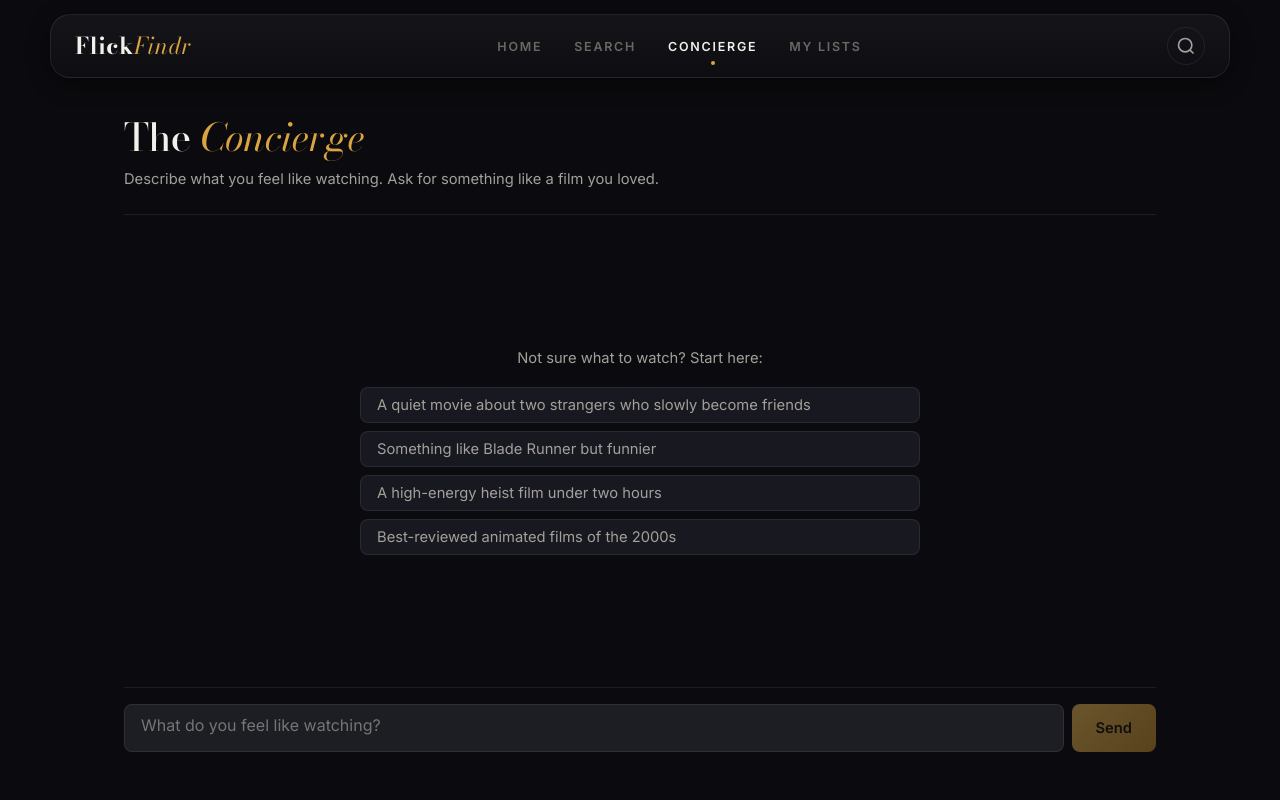
Test case: Concierge streaming › surfaces an error from the stream
The width and height of the screenshot is (1280, 800).
In the text box named "Message the concierge": (594, 728) [124,704,1064,752], type "anything"
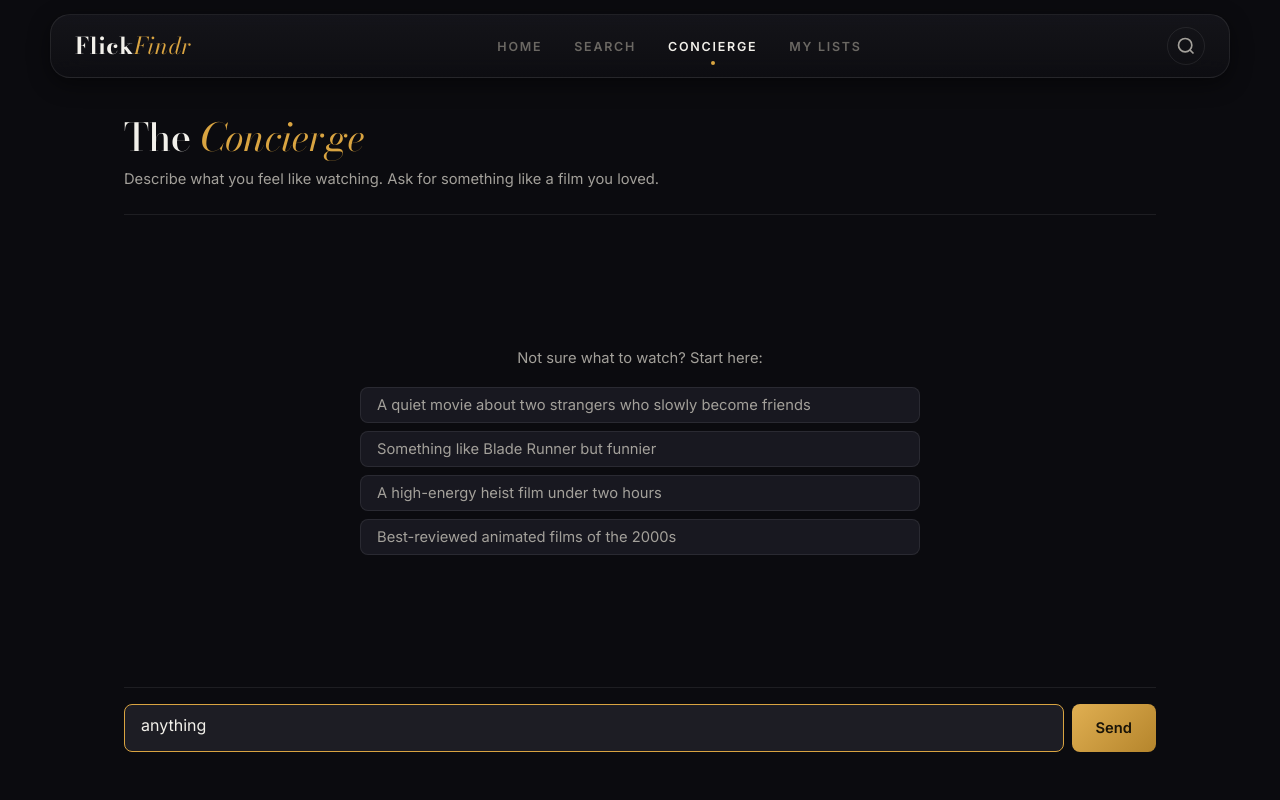
Click the button "Send": click(1114, 728) [1072,704,1156,752]
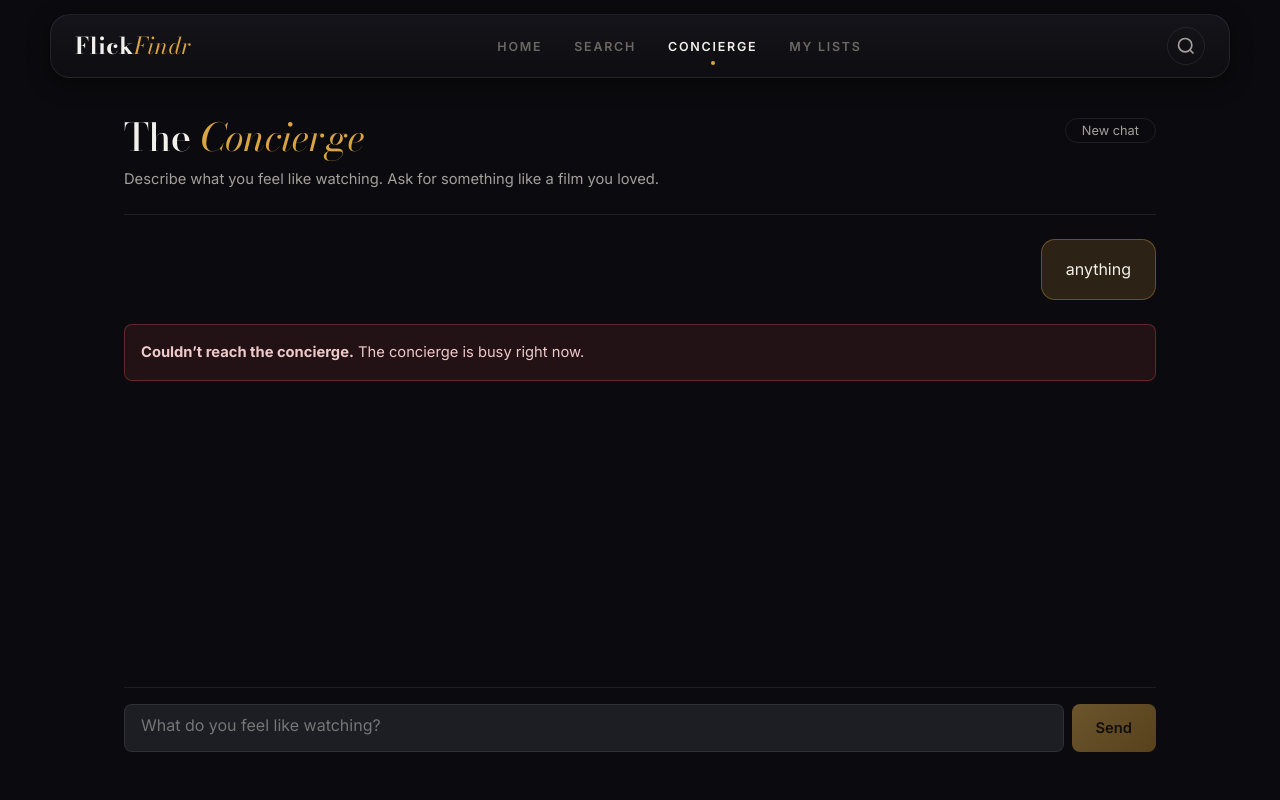
Expected: the message shows "busy right now", [358,342,584,360]
